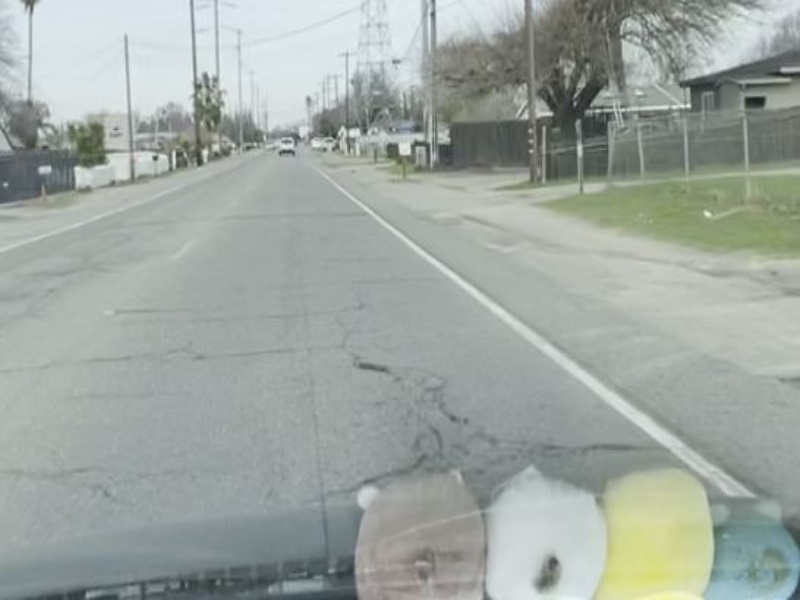pothole: (353, 359, 389, 377)
